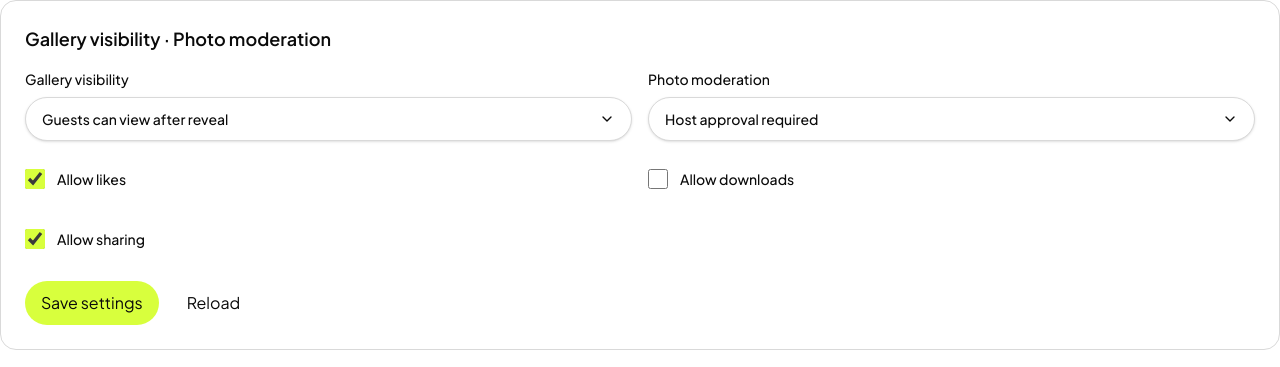
Test: gallery settings visibility › uses CSRF and refreshes revision after a conflict
Expected: the dropdown named "Gallery visibility" is shown, 25,97 -> 632,141
What coordinates should you click on to do the following:
click the button "Save settings"
I would click on:
 (92, 303)
Its box is 25,281 -> 159,325.
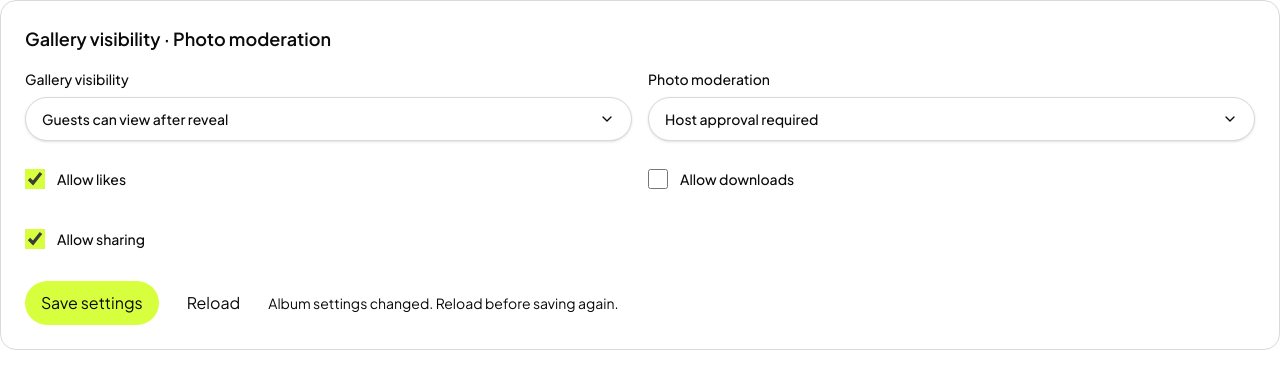
Now the text "Album settings changed. Reload before saving again." is shown, box 268,293 -> 619,313
